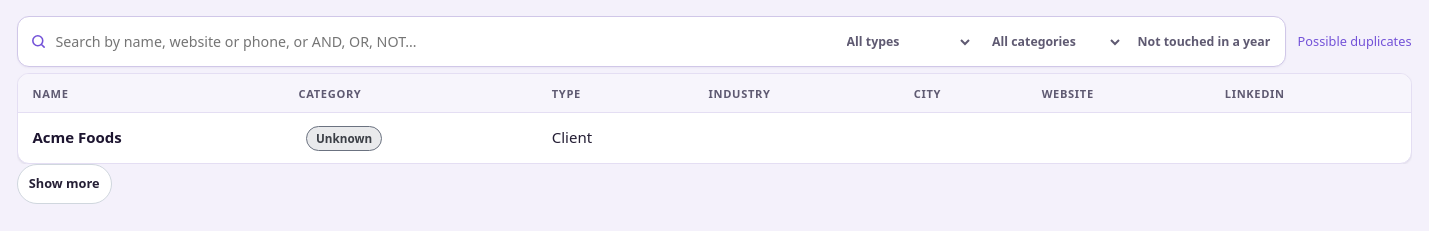
Test case: pages through every company, 100 at a time
The width and height of the screenshot is (1429, 231).
Expected: the link "Acme Foods" is shown, top-left (32, 128), bottom-right (122, 148)
Click the button "Show more": (64, 184) top-left (16, 164), bottom-right (112, 204)
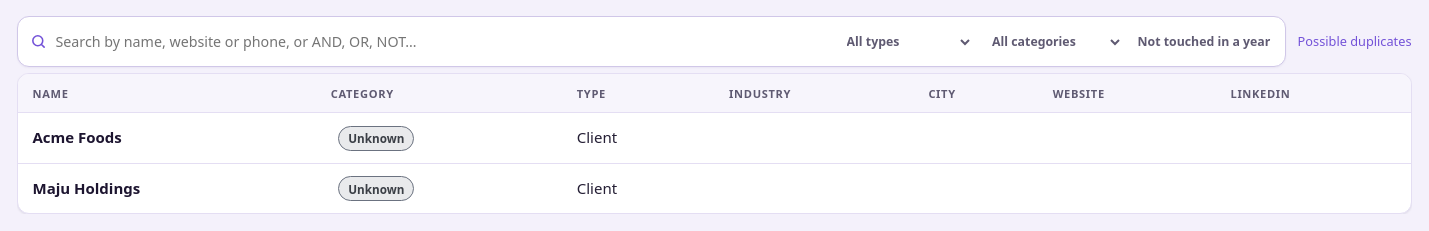
Result: the link "Maju Holdings" is shown at top-left (32, 178), bottom-right (140, 198)
Result: the button "Show more" is gone
